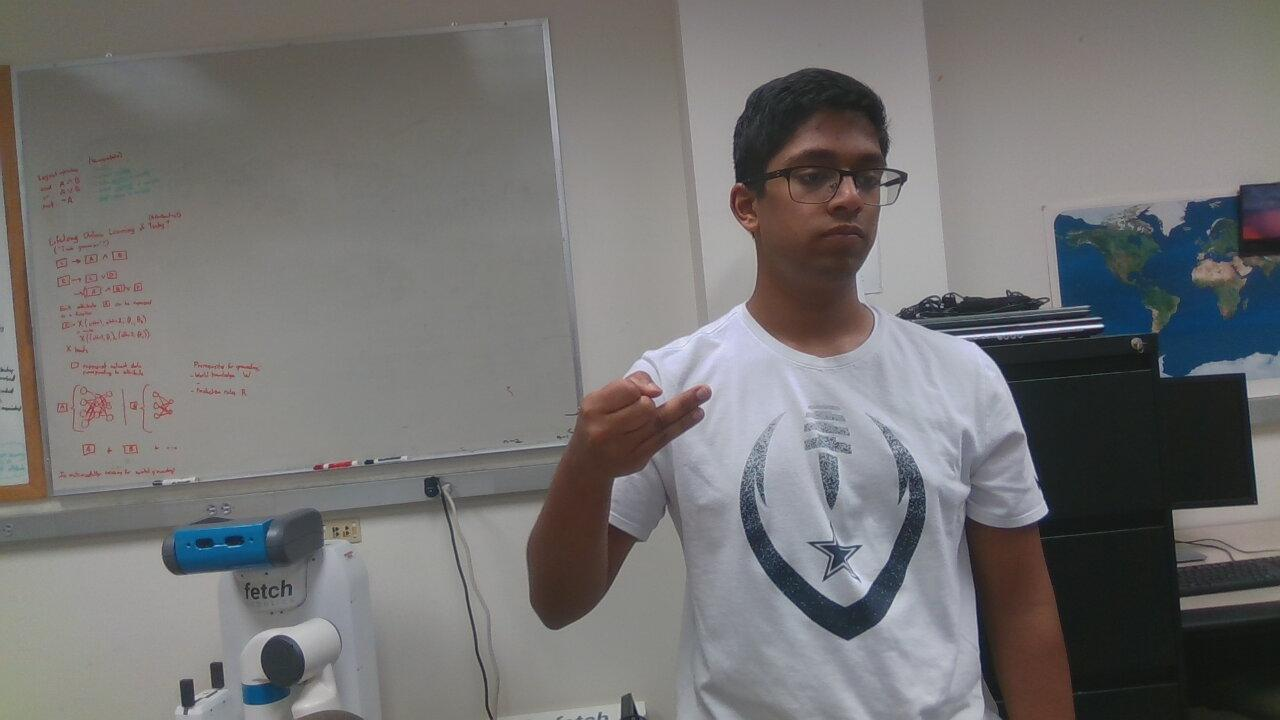hands: (556, 347, 719, 506)
